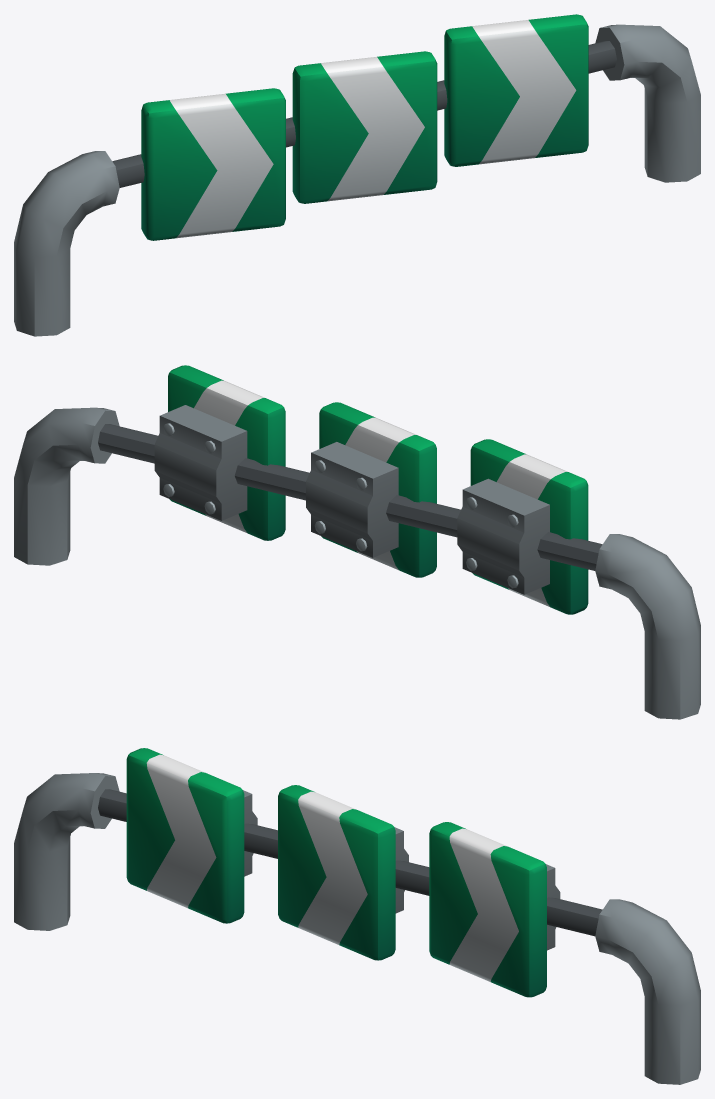
Rendered from signage_arrows_right_green.glb.
The picture shows the model from 3 angles, top to bottom: view 1: azimuth 30°, elevation 25°; view 2: azimuth 150°, elevation 25°; view 3: azimuth 330°, elevation 25°; orthographic projection.
Parts seen in each view (by area): view 1: signage_arrows_right_green; view 2: signage_arrows_right_green; view 3: signage_arrows_right_green.
Part boxes in pixels (bbox=[...]): signage_arrows_right_green: bbox=[14, 14, 700, 336]; signage_arrows_right_green: bbox=[14, 365, 700, 719]; signage_arrows_right_green: bbox=[14, 748, 700, 1084].
Bounding box in the file's own units: 5.4 × 1.5 × 0.6771.
1 material, 1 textured.
